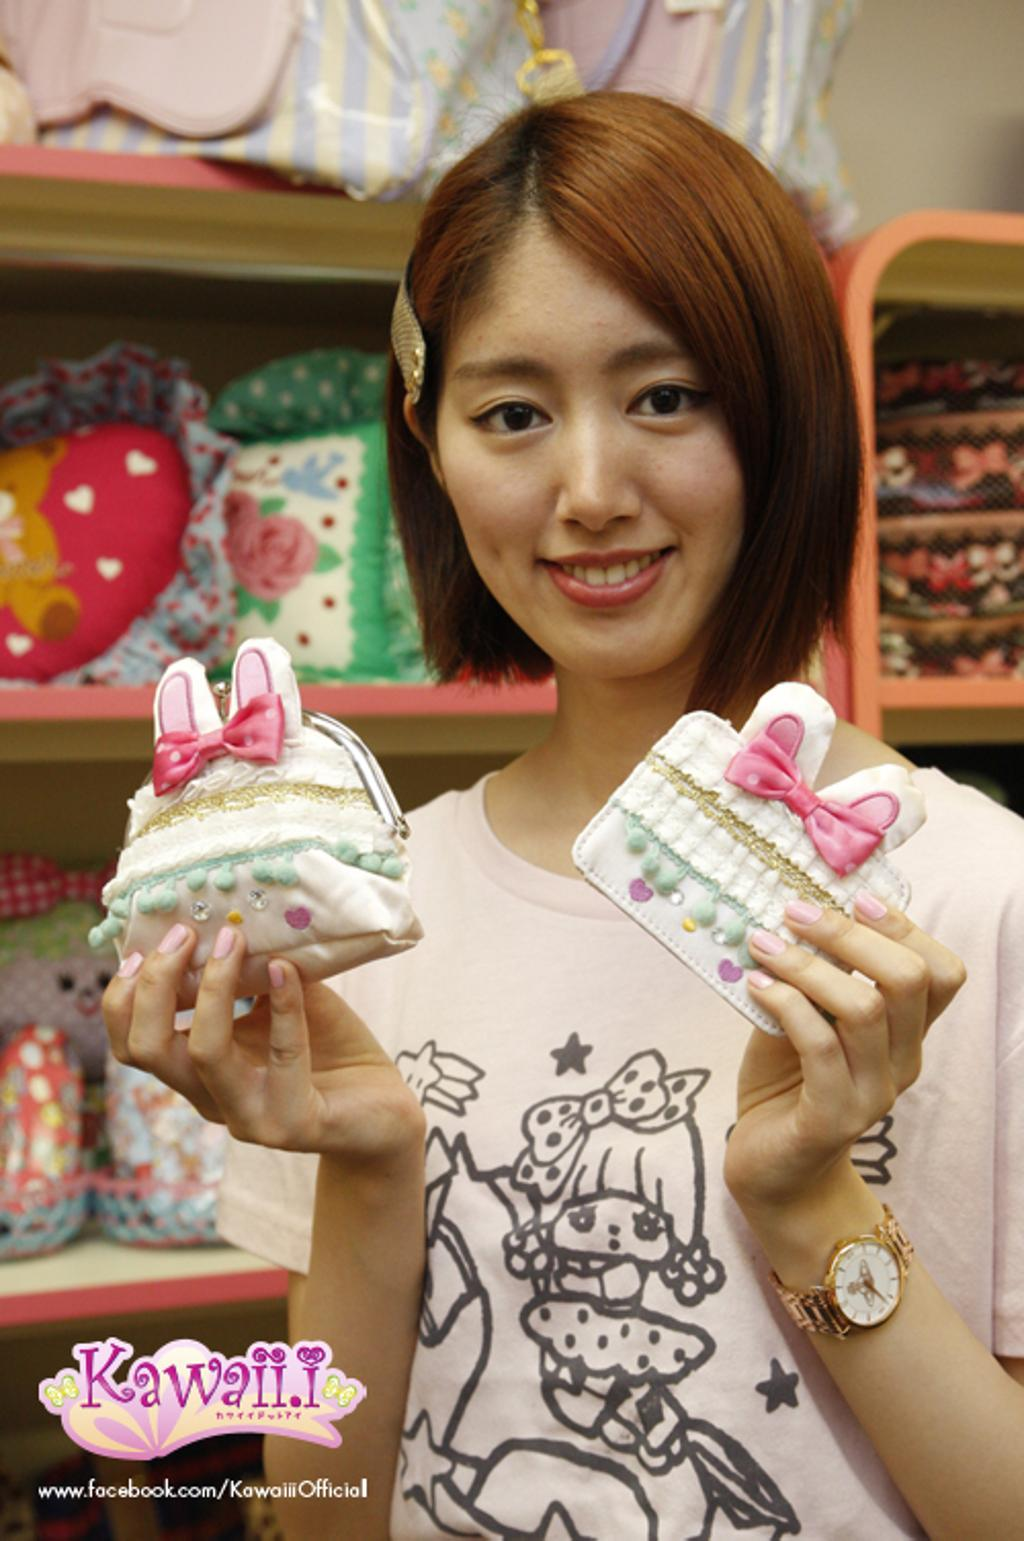face: (440, 256, 756, 684)
